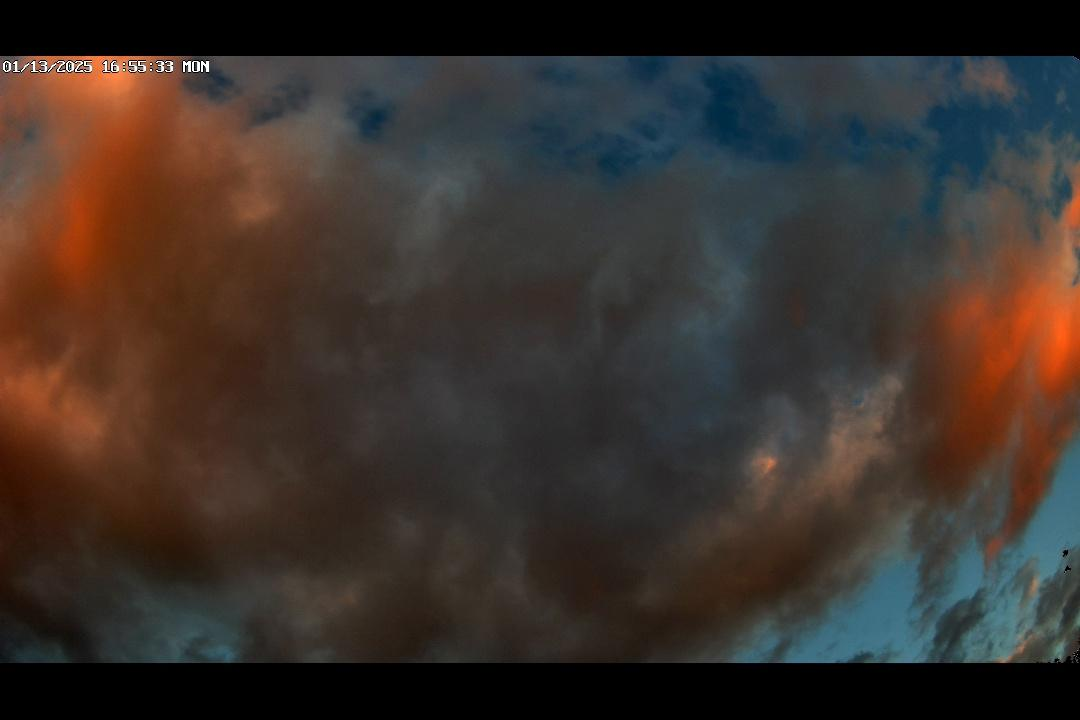WildLife: (1057, 562, 1077, 577), (1054, 546, 1075, 559)
